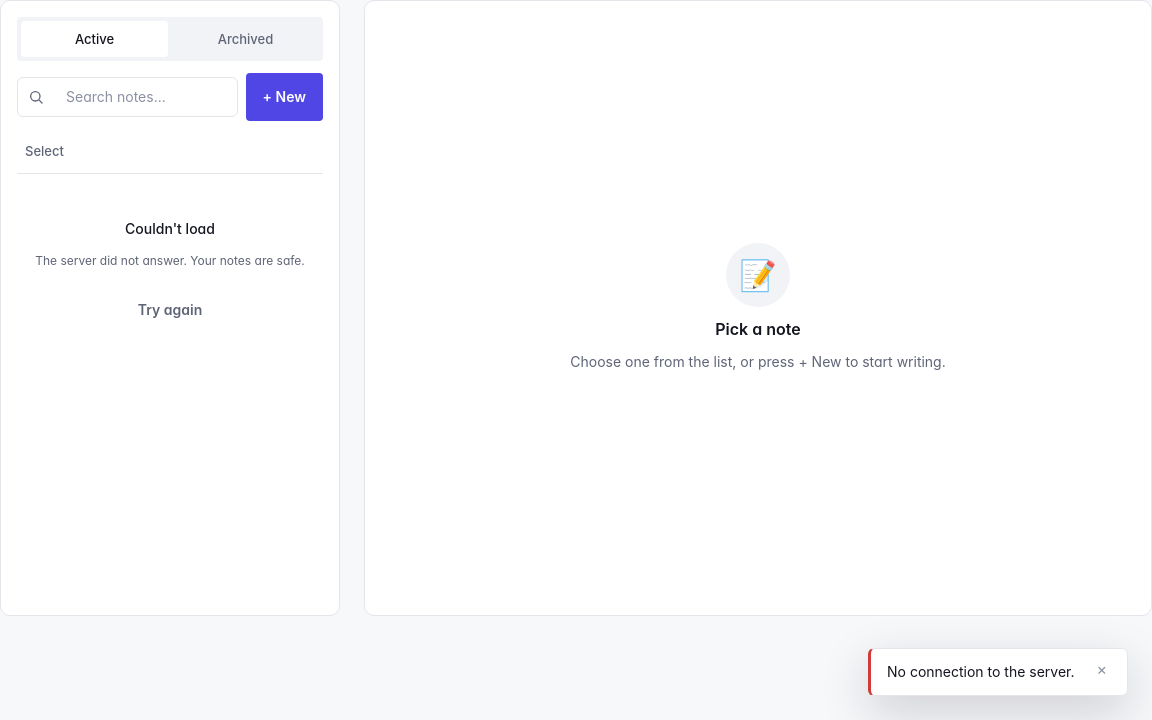
Test case: Notes page on the store › leaves a failure block with a retry in the list, not just a toast
The width and height of the screenshot is (1152, 720).
Expected: the text "Couldn't load" is shown, [125,218,215,240]
Click the button "Try again". click: (170, 310)
box: [121,286,219,334]
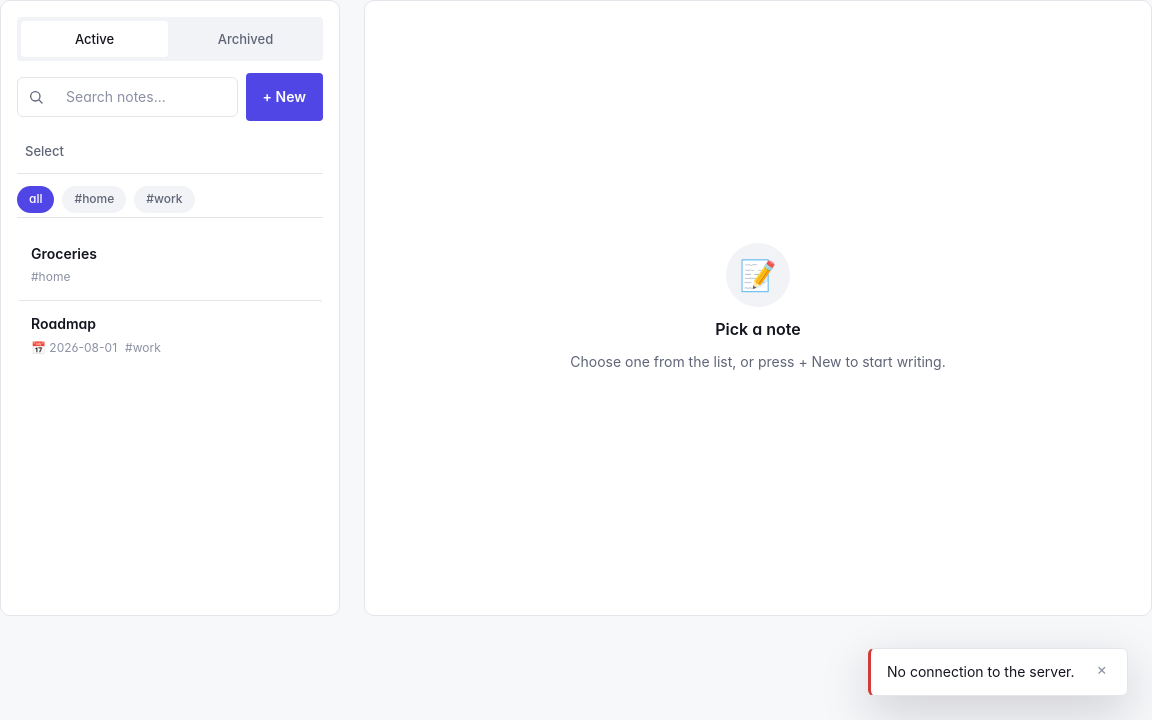
Expected: the text "Groceries" is shown, [31,245,97,262]
